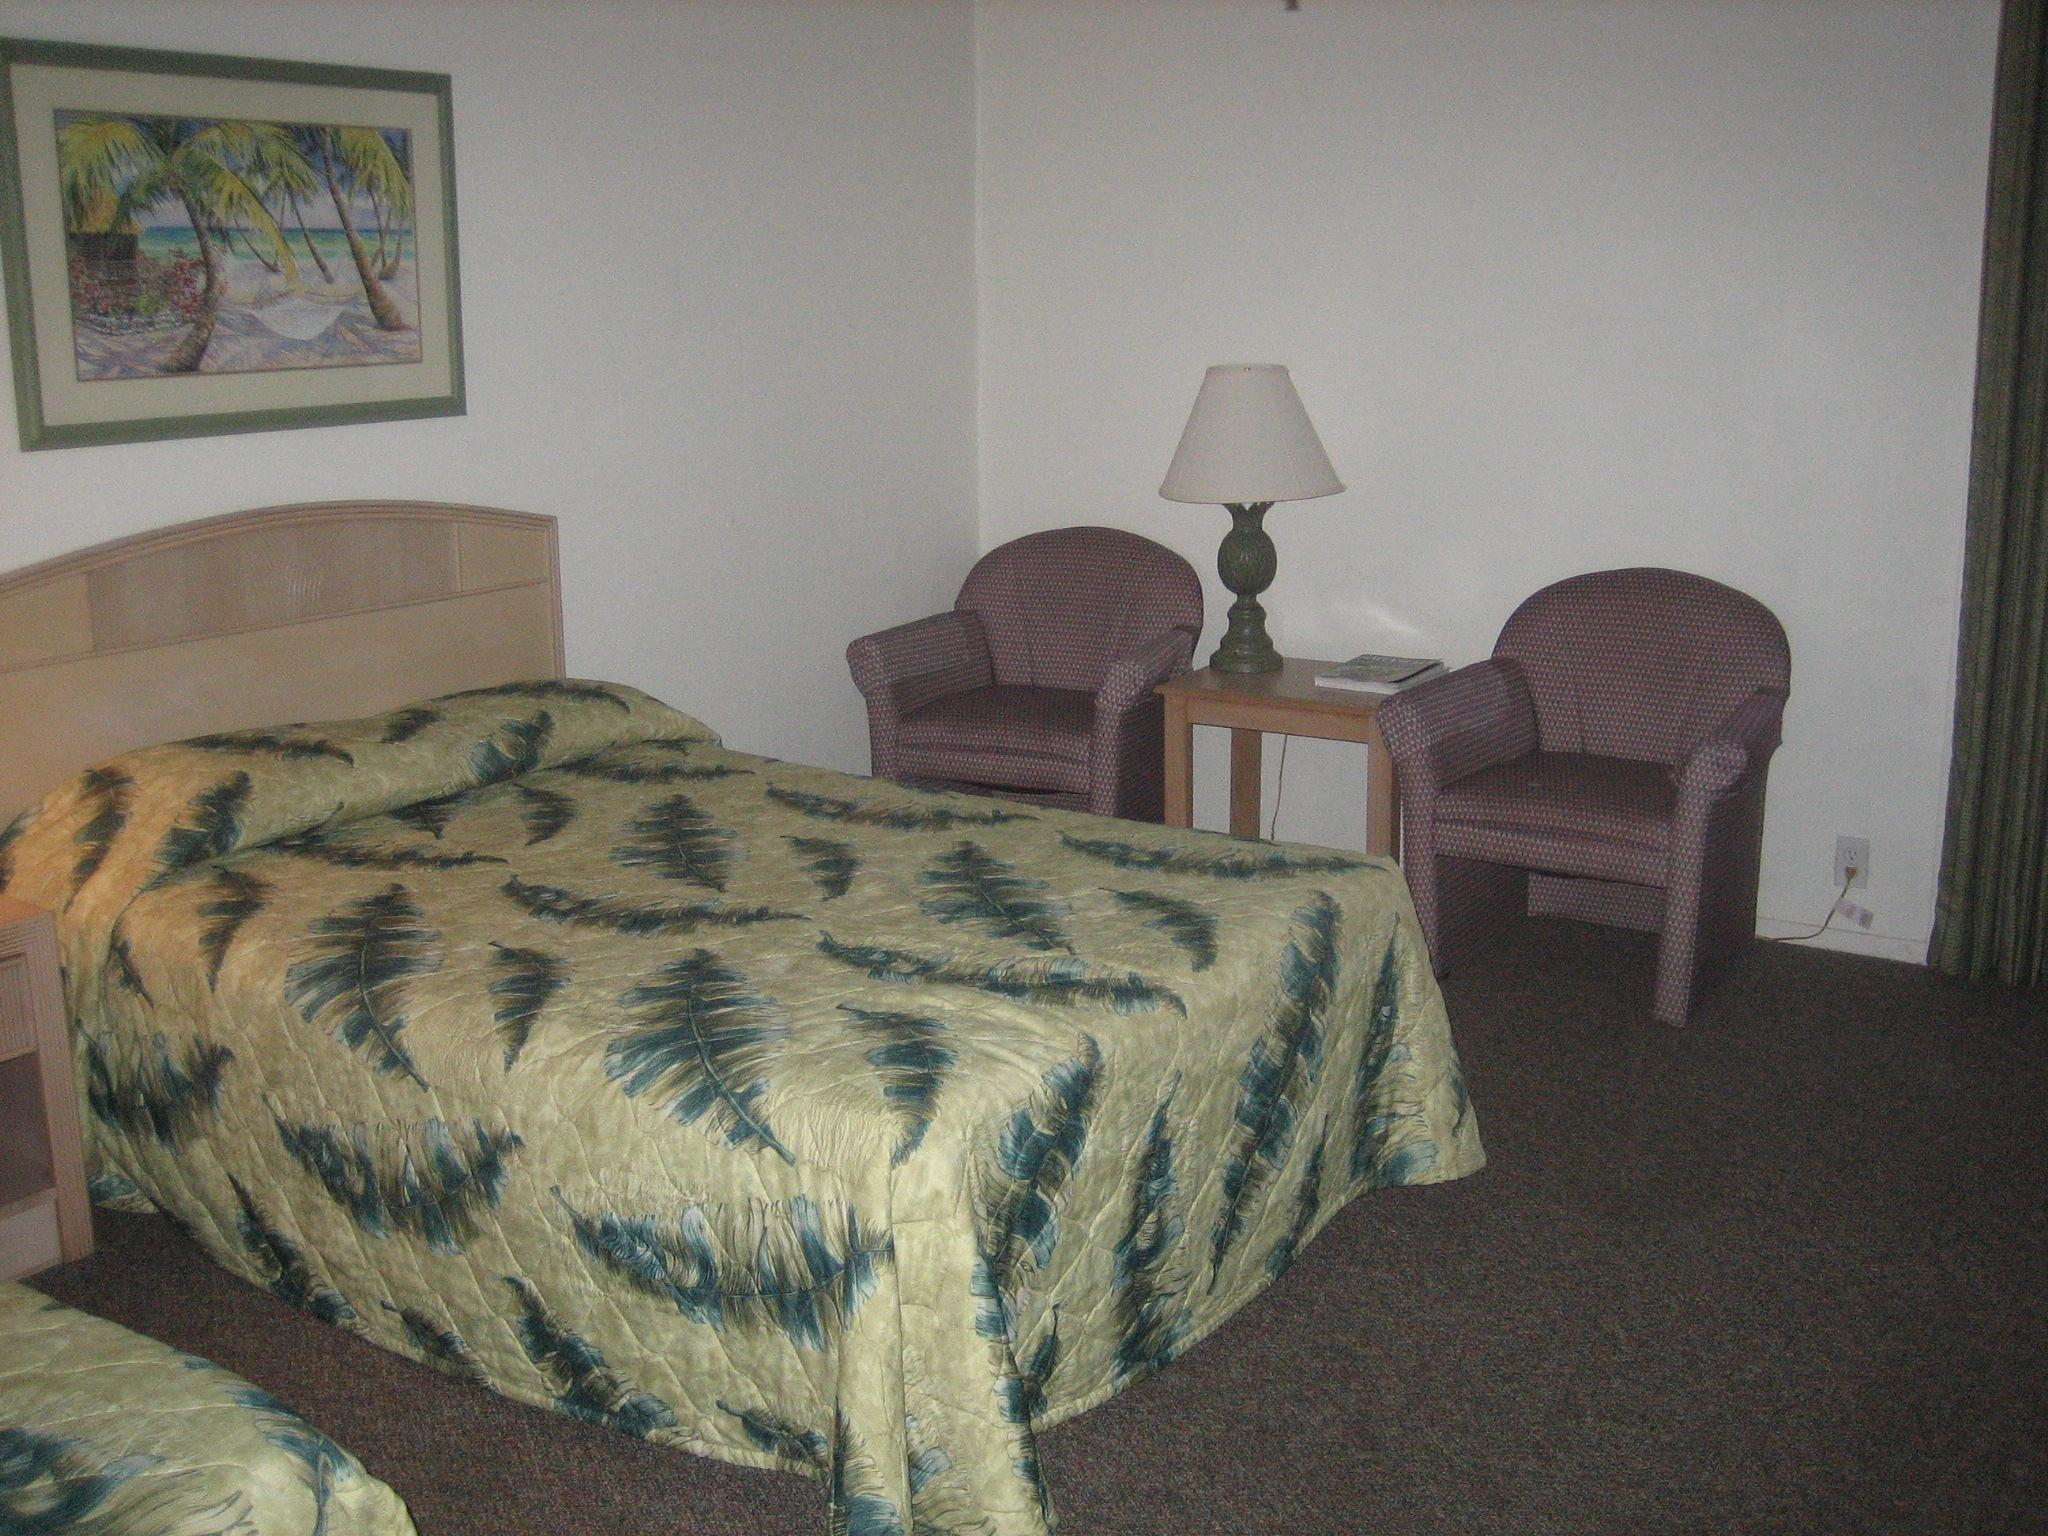Cama: (31, 486, 1513, 1513)
